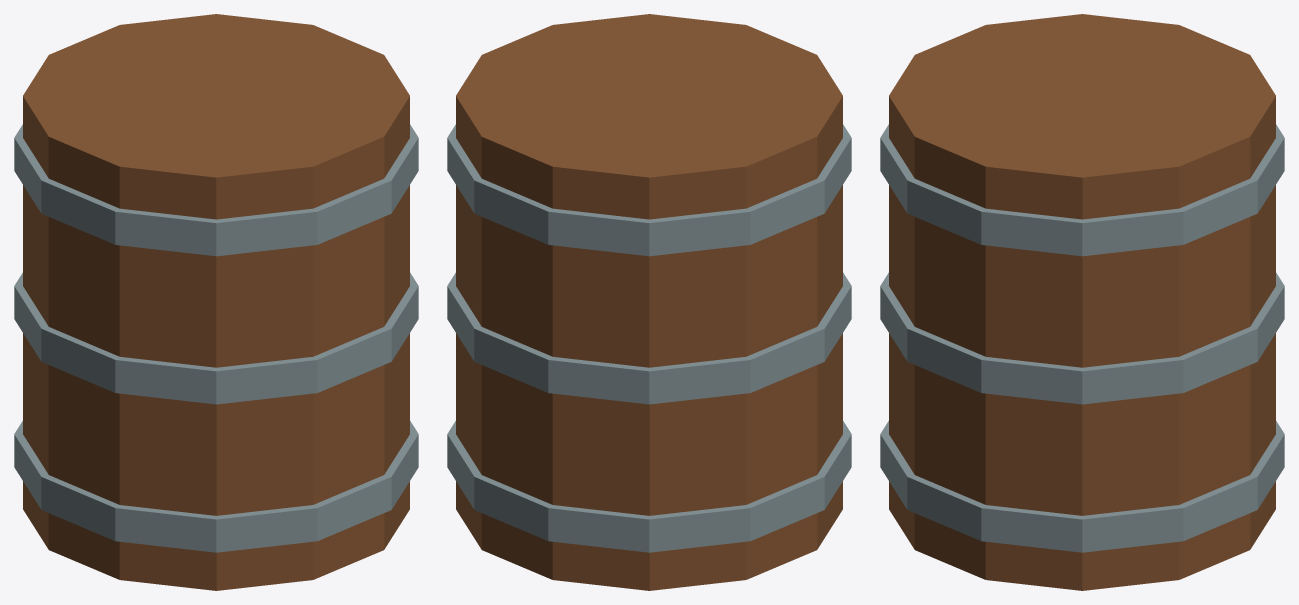
The model's file is barrel.fbx.
3 views of the same model, side by side, from view 1: azimuth 30°, elevation 25°; view 2: azimuth 150°, elevation 25°; view 3: azimuth 270°, elevation 25° (orthographic).
Parts seen in each view (by area): view 1: OakBarrel, Hoop, Hoop.001, Hoop.002; view 2: OakBarrel, Hoop, Hoop.001, Hoop.002; view 3: OakBarrel, Hoop, Hoop.001, Hoop.002.
Boxes of the visible parts, box(x1,y1,x2,y2) form: OakBarrel: box(23, 14, 409, 590); Hoop: box(14, 421, 418, 552); Hoop.001: box(14, 272, 418, 404); Hoop.002: box(14, 124, 418, 256); OakBarrel: box(456, 14, 842, 590); Hoop: box(447, 421, 851, 552); Hoop.001: box(447, 272, 851, 404); Hoop.002: box(447, 124, 851, 256); OakBarrel: box(889, 14, 1275, 590); Hoop: box(880, 421, 1284, 552); Hoop.001: box(880, 272, 1284, 404); Hoop.002: box(880, 124, 1284, 256).
Size of the model in its own units: 94 by 106 by 94.
